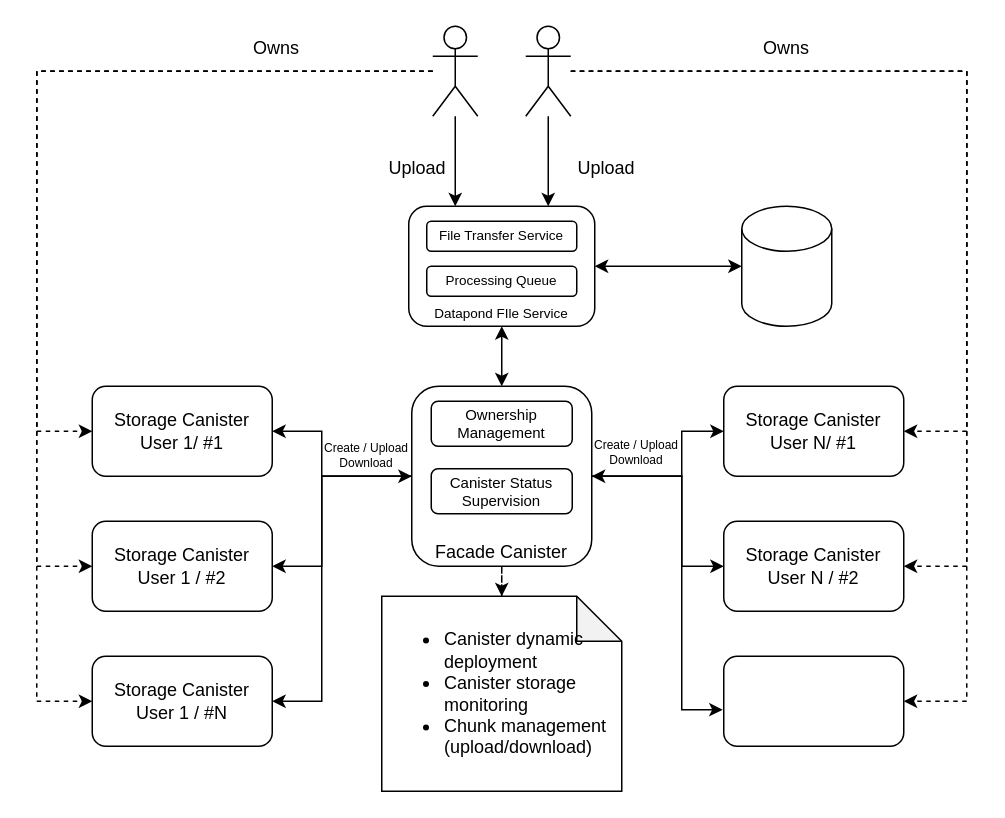
Image size: 1005x818. Some labels were removed from this diagram. Each missing label, with the centre of its shape:
"Data Cache" belongs at (786,265).
"Storage Canister User N / #N" belongs at (813,700).
"User 1" belongs at (454,70).
"User N" belongs at (547,70).
